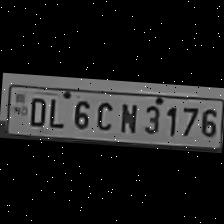1: (160, 102, 179, 136)
3: (140, 100, 162, 134)
6: (68, 94, 92, 130), (196, 103, 220, 136)
7: (176, 102, 196, 136)
C: (91, 97, 115, 130)
D: (24, 92, 48, 125)
L: (44, 93, 66, 127)
N: (115, 99, 139, 134)
